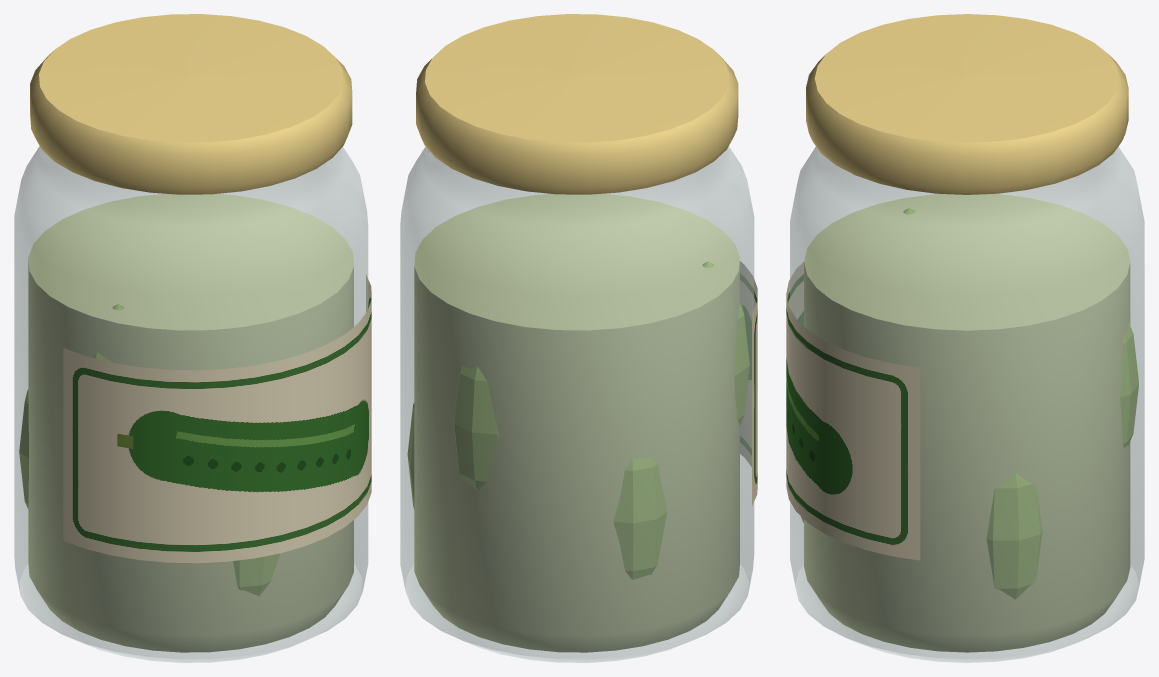
The model's file is jar_pickles.glb.
3 views of the same model, side by side, from view 1: azimuth 30°, elevation 25°; view 2: azimuth 150°, elevation 25°; view 3: azimuth 270°, elevation 25° (orthographic).
Visible parts, largest first — view 1: jar_pickles; view 2: jar_pickles; view 3: jar_pickles.
Boxes of the visible parts, x1,y1,x2,y2 form: jar_pickles: (14,14,371,662); jar_pickles: (400,14,757,662); jar_pickles: (786,14,1144,662).
Bounding box in the file's own units: 0.2 × 0.326 × 0.202.
5 materials, 1 textured.
